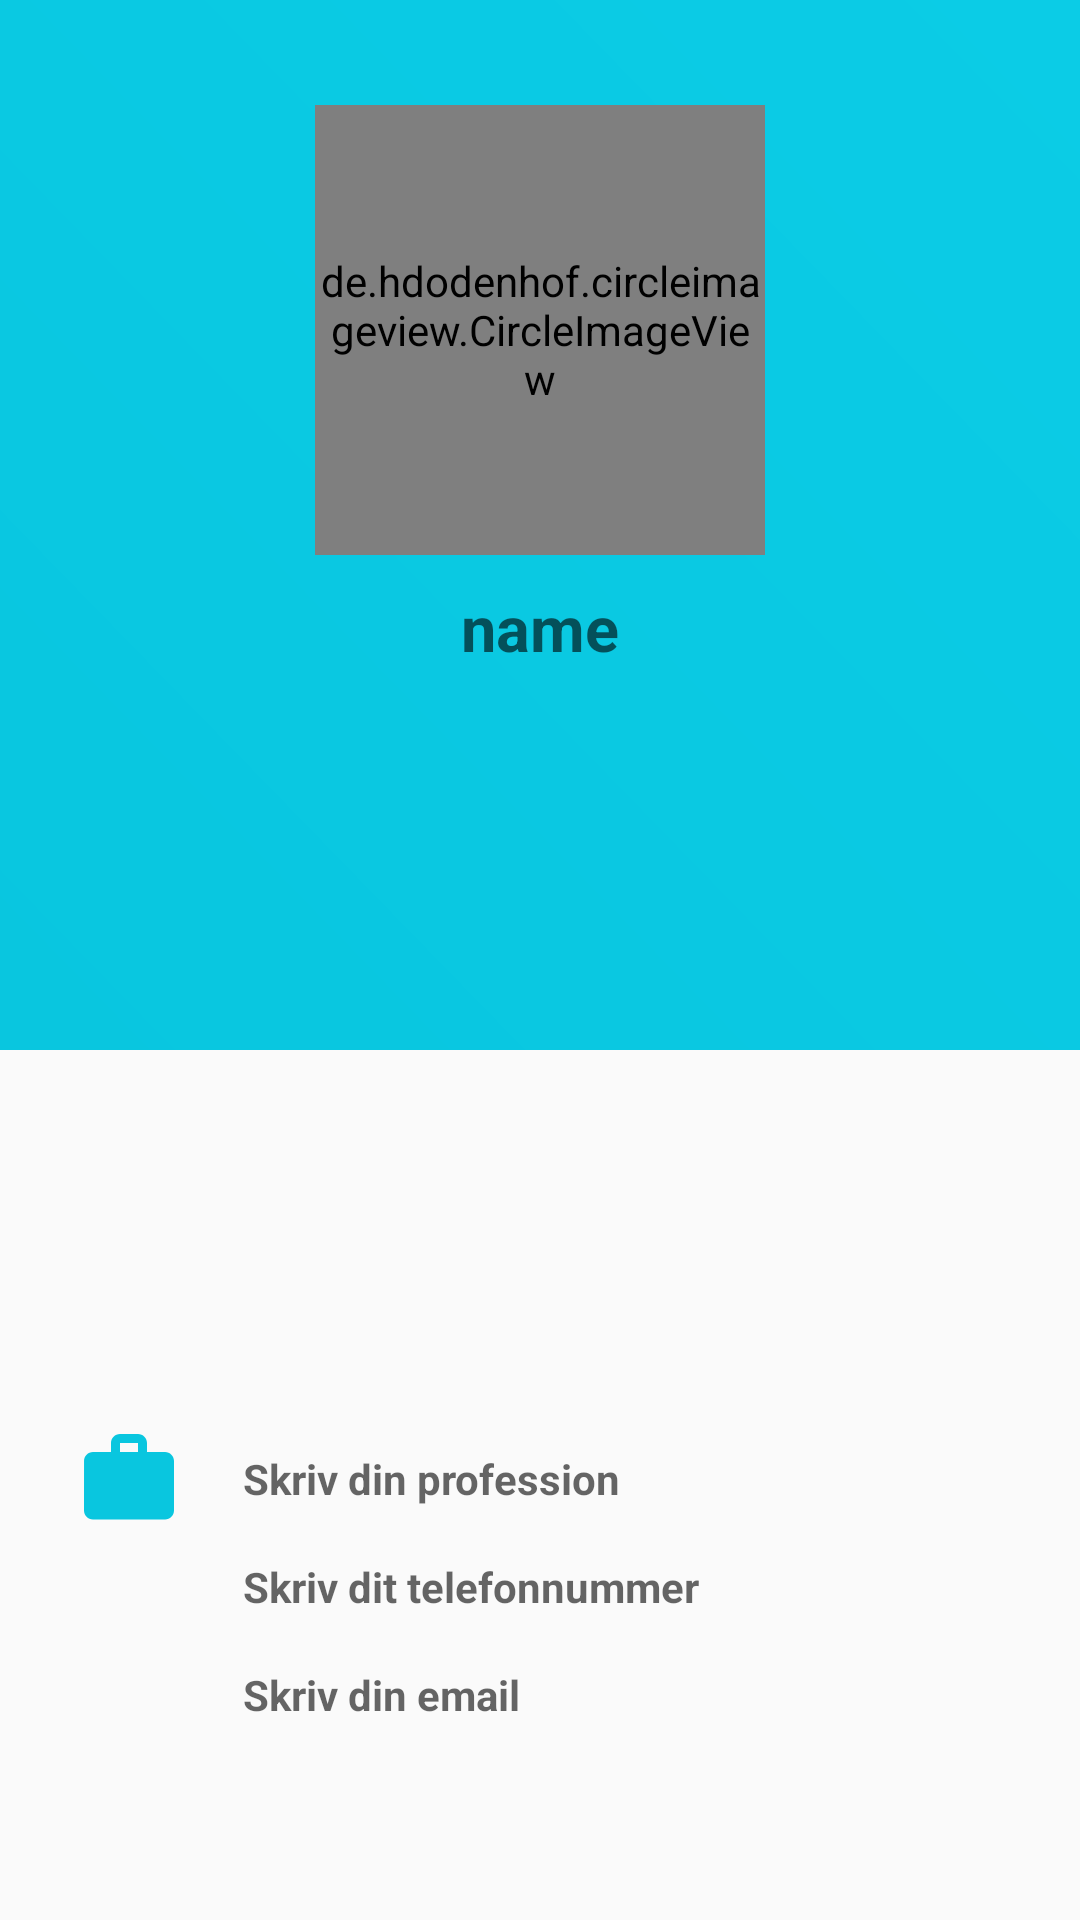

Icons on this 1080 × 1920 Android screen, each with the point to tap as (x,y):
work: (129,1477)
